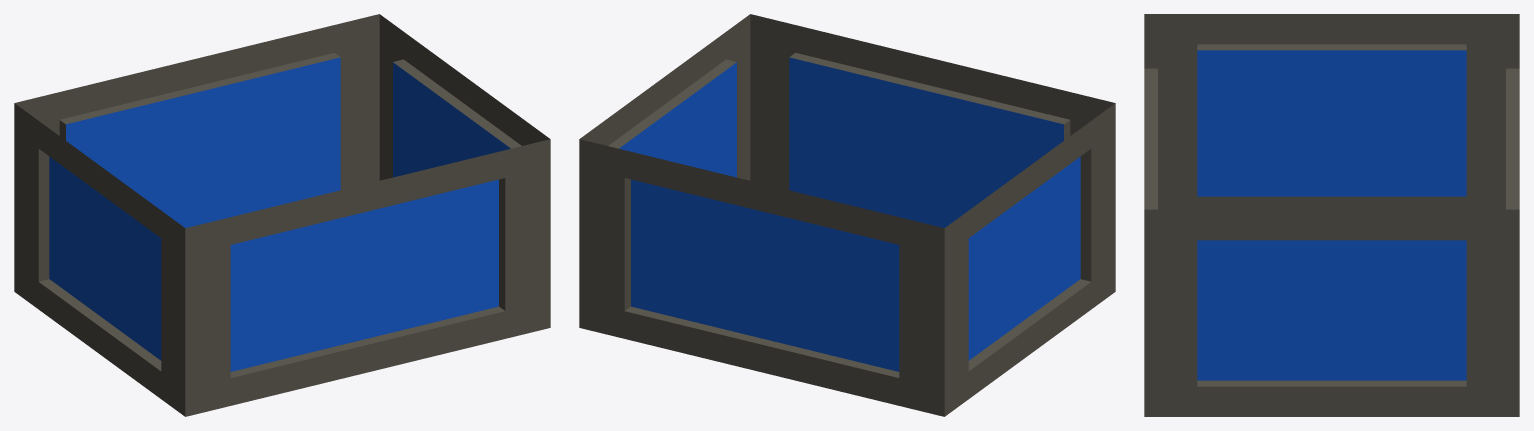
The model's file is CityBuildingD_02_floor.fbx.
3 views of the same model, side by side, from view 1: azimuth 30°, elevation 25°; view 2: azimuth 150°, elevation 25°; view 3: azimuth 270°, elevation 25° (orthographic). The views are drawn at different scales.
Parts seen in each view (by area): view 1: CityBuildingD_02_floor; view 2: CityBuildingD_02_floor; view 3: CityBuildingD_02_floor.
Part boxes in pixels (x1=…): CityBuildingD_02_floor: x1=14, y1=14, x2=550, y2=416; CityBuildingD_02_floor: x1=579, y1=14, x2=1115, y2=416; CityBuildingD_02_floor: x1=1144, y1=14, x2=1519, y2=416.
Bounding box in the file's own units: 0.6706 × 0.3312 × 0.5438.
